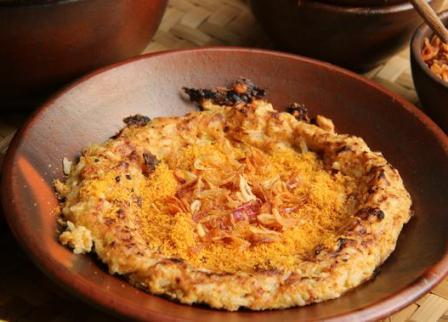kerak_telor: (54, 102, 413, 313)
